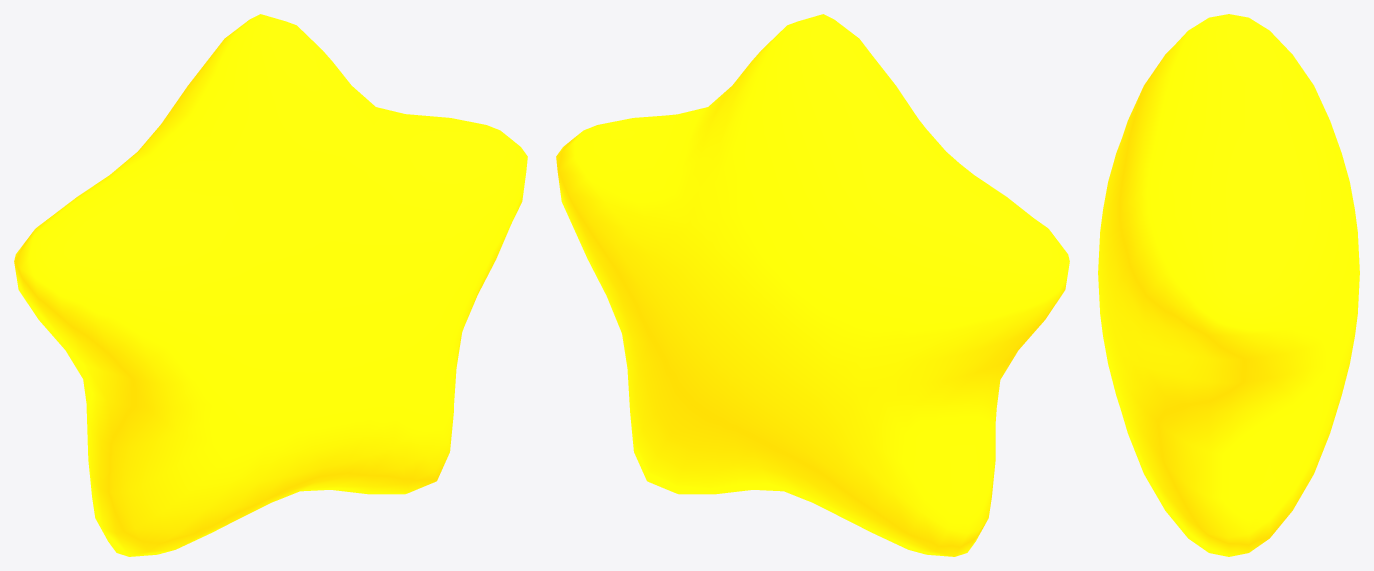
Rendered from Star.glb.
3 renders of one model, left to right at view 1: azimuth 30°, elevation 25°; view 2: azimuth 150°, elevation 25°; view 3: azimuth 270°, elevation 25°, orthographic. The views are drawn at different scales.
Visible parts, largest first — view 1: Star; view 2: Star; view 3: Star.
Part boxes in pixels (x1,y1,x2,y2): Star: [14, 14, 527, 556]; Star: [556, 14, 1069, 556]; Star: [1098, 14, 1359, 556].
Size of the model in its own units: 0.9081 by 0.8719 by 0.4348.
